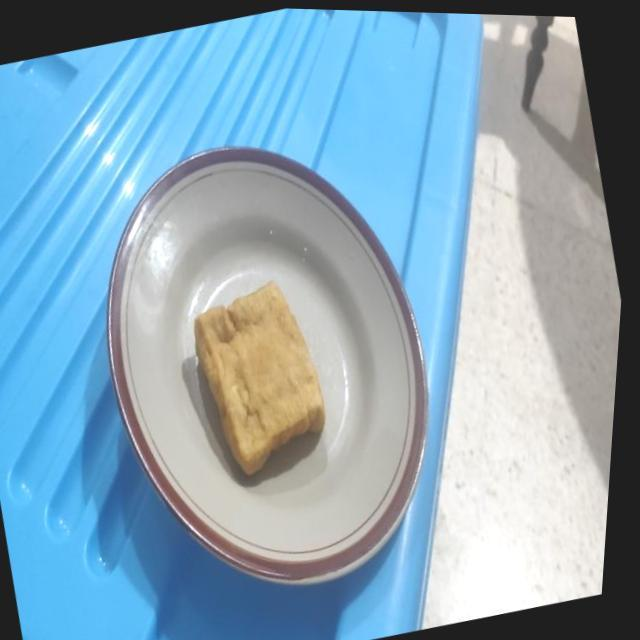tahu_goreng: (194, 280, 325, 474)
